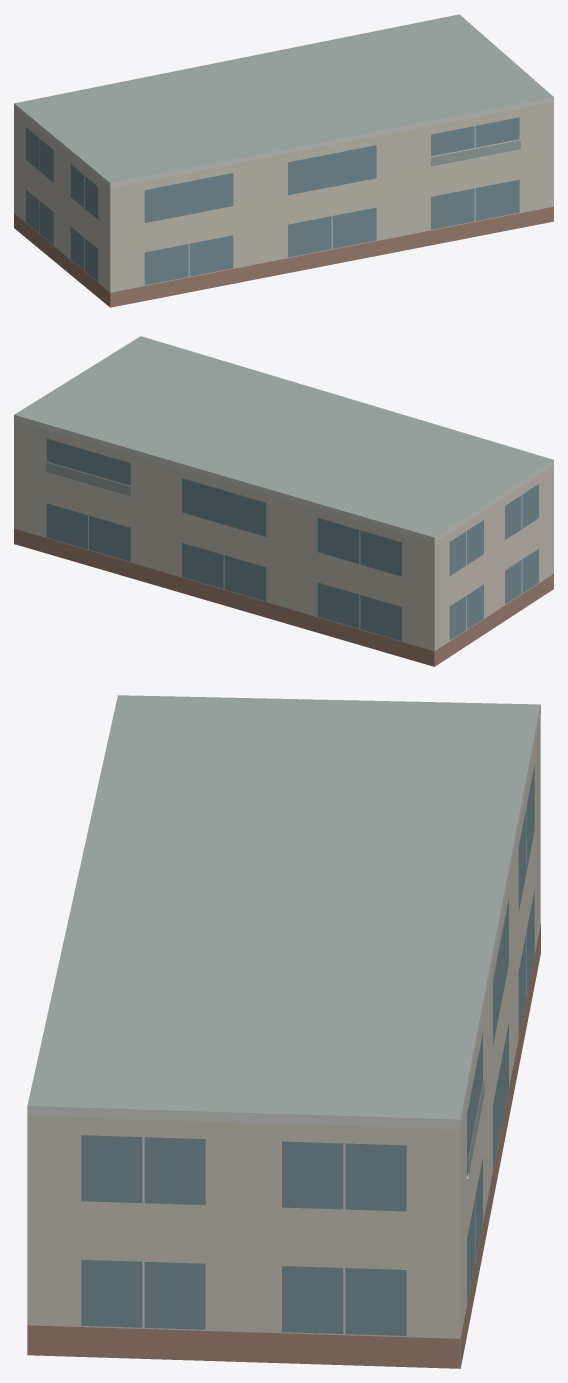
File: survey-upis-32797760.glb
3 views of the same model, one above another, from view 1: azimuth 30°, elevation 25°; view 2: azimuth 150°, elevation 25°; view 3: azimuth 270°, elevation 25° (orthographic). The views are drawn at different scales.
Parts seen in each view (by area): view 1: survey-upis-32797760.tmp; view 2: survey-upis-32797760.tmp; view 3: survey-upis-32797760.tmp.
Boxes of the visible parts, x1,y1,x2,y2 form: survey-upis-32797760.tmp: (14,14,553,307); survey-upis-32797760.tmp: (14,336,553,666); survey-upis-32797760.tmp: (27,695,540,1368).
Bounding box in the file's own units: 22.29 × 6.1 × 11.4.
